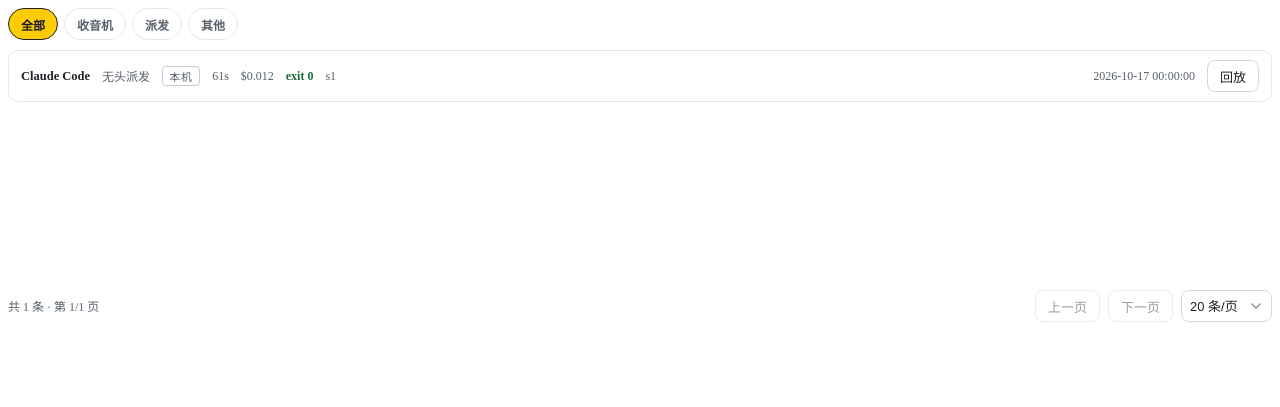
Test case: 执行世界徽章与回放路由 › 本机行：剪贴板不可用 → 手动复制提示 + 命令行仍可见（零静默）
Click the button with test id "session-replay" at (1233, 76), box [1207,60,1259,92]
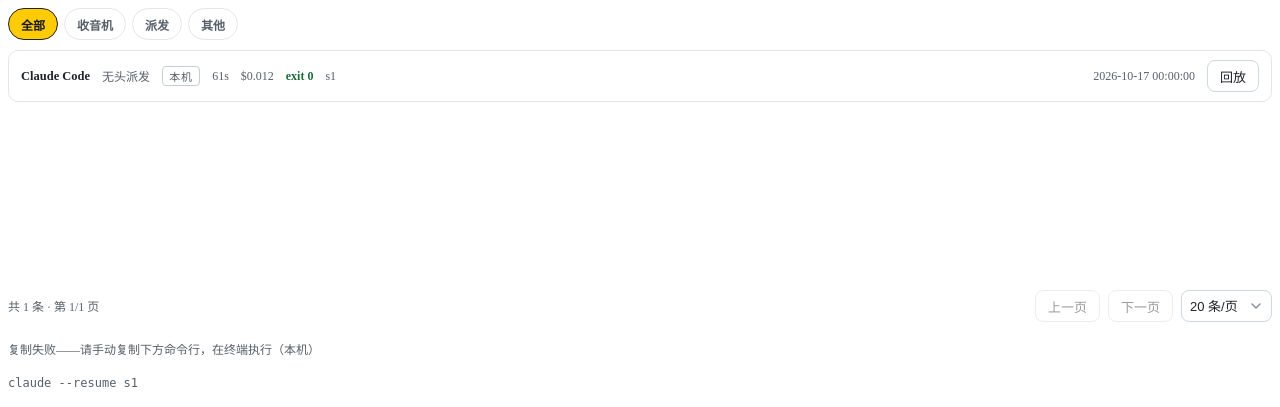
Result: the message with test id "session-note" shows "请手动复制" at [8,343,320,357]
Result: the element with test id "session-replay-line" reads "claude --resume s1" at [8,376,138,390]
